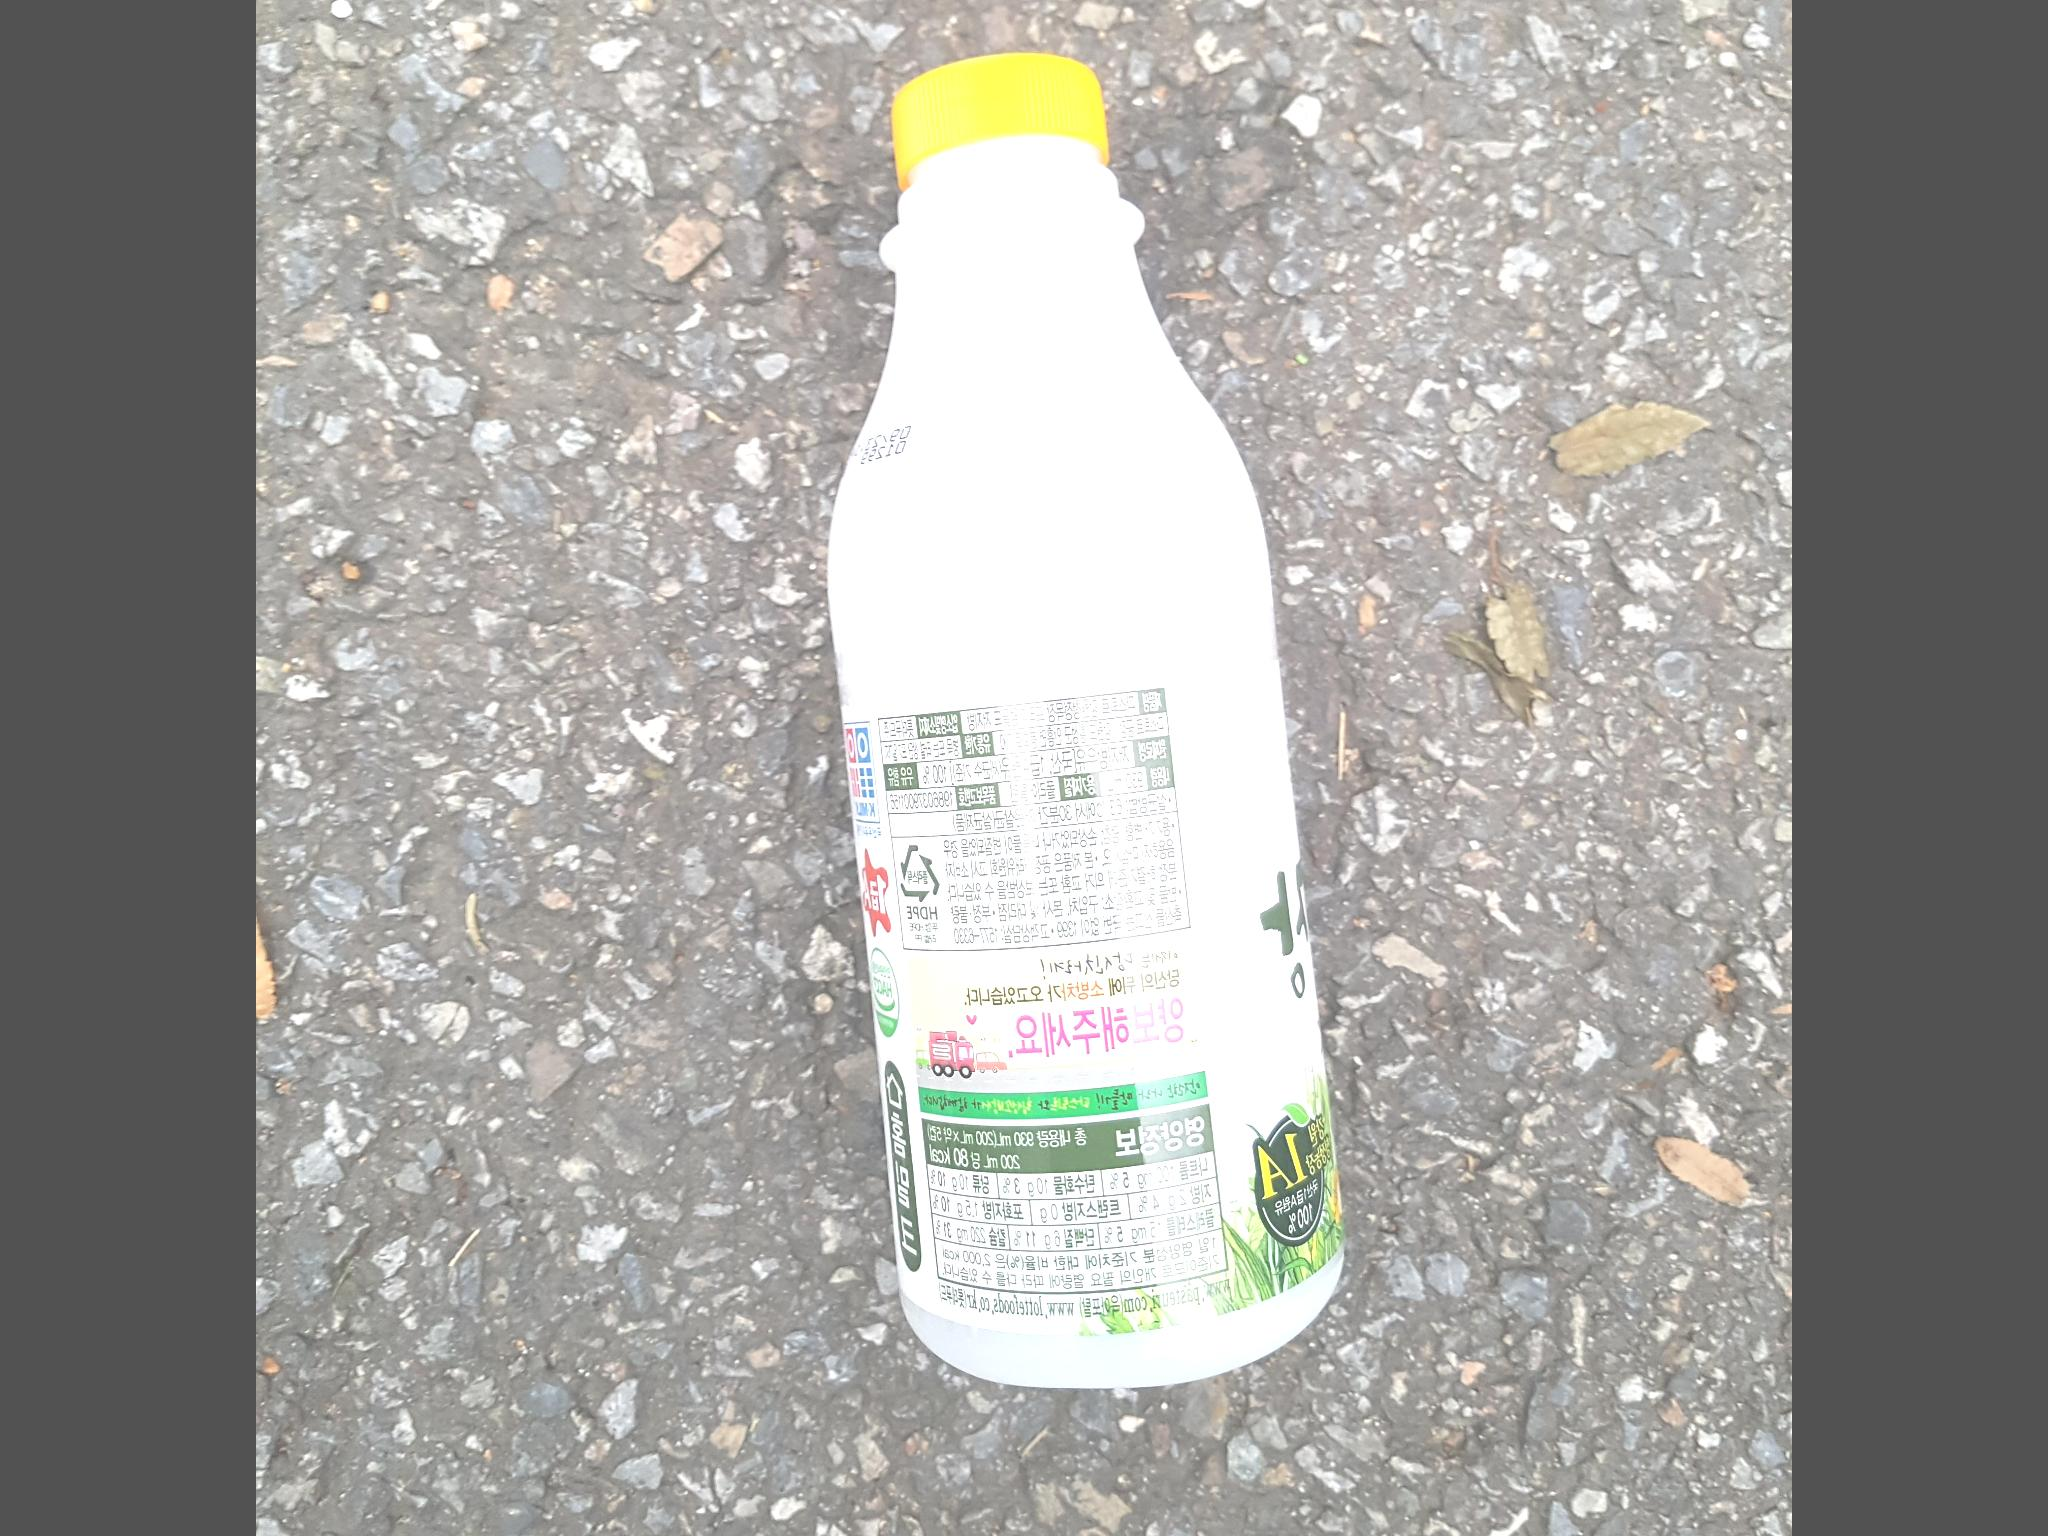bottle: (810, 55, 1361, 1413)
